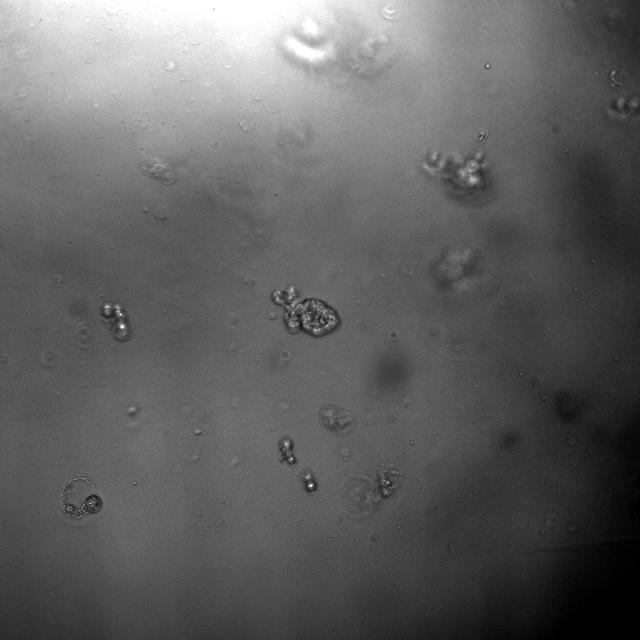organoid: (271, 286, 341, 337), (420, 150, 491, 200), (341, 464, 404, 516), (318, 403, 356, 435), (100, 303, 130, 341), (62, 493, 102, 519), (278, 435, 296, 465), (299, 469, 318, 492)
